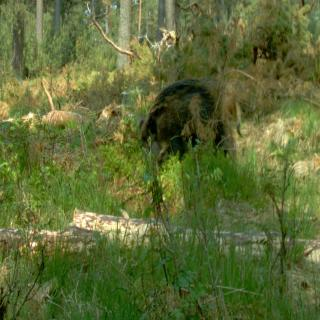Pig: (134, 56, 286, 165)
